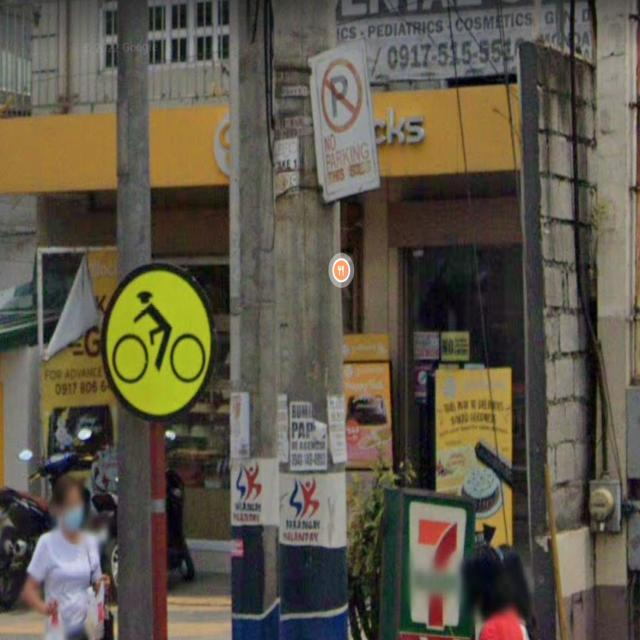bike lane: (101, 262, 215, 420)
